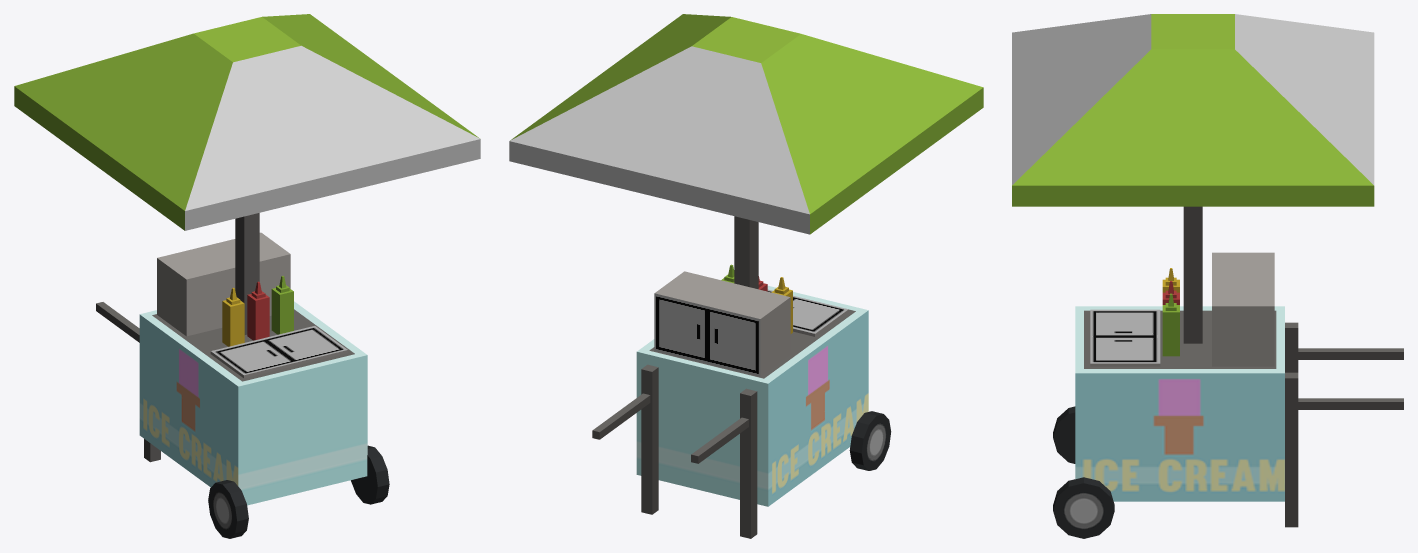
File: SM_IceCream_Cart_01.fbx
3 renders of one model, left to right at view 1: azimuth 30°, elevation 25°; view 2: azimuth 150°, elevation 25°; view 3: azimuth 270°, elevation 25°, orthographic. The views are drawn at different scales.
Visible parts, largest first — view 1: SM_IceCream_Cart_01; view 2: SM_IceCream_Cart_01; view 3: SM_IceCream_Cart_01.
Part boxes in pixels (x1=…): SM_IceCream_Cart_01: x1=14, y1=14, x2=480, y2=538; SM_IceCream_Cart_01: x1=509, y1=14, x2=983, y2=538; SM_IceCream_Cart_01: x1=1012, y1=14, x2=1403, y2=538.
Size of the model in its own units: 3.2 by 4.57 by 3.47.
